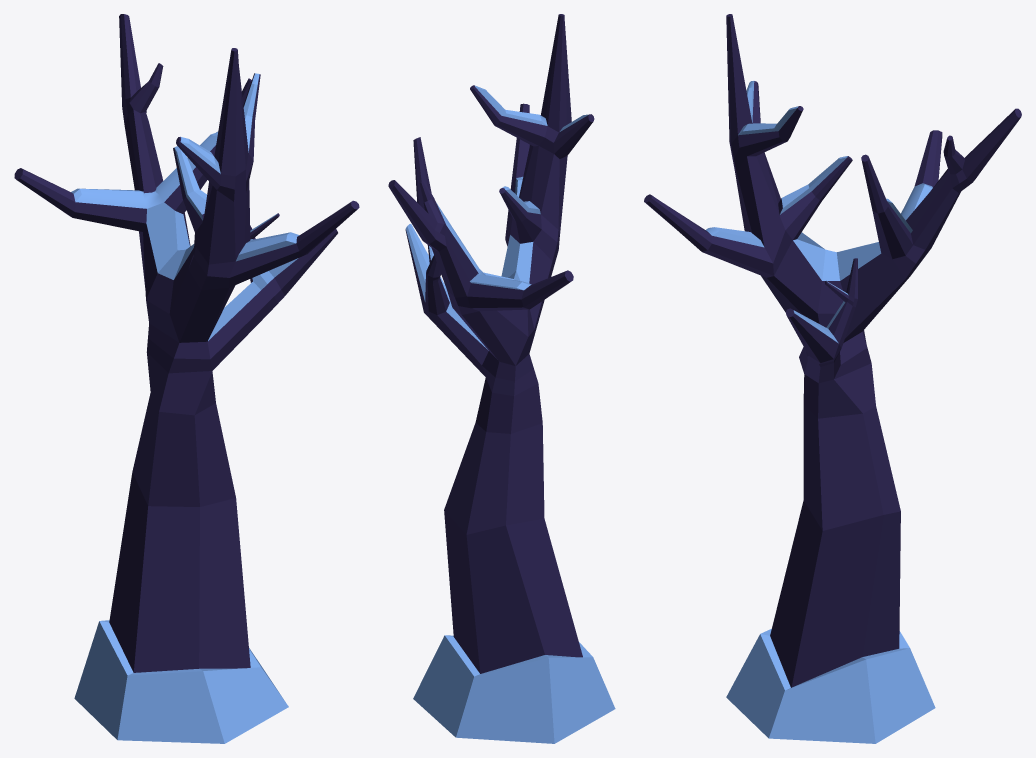
The model's file is Leafless_Tree_2.fbx.
3 renders of one model, left to right at view 1: azimuth 30°, elevation 25°; view 2: azimuth 150°, elevation 25°; view 3: azimuth 270°, elevation 25°, orthographic. The views are drawn at different scales.
Parts seen in each view (by area): view 1: Leafless_Tree_2; view 2: Leafless_Tree_2; view 3: Leafless_Tree_2.
Part boxes in pixels (bbox=[...]): Leafless_Tree_2: bbox=[14, 14, 359, 743]; Leafless_Tree_2: bbox=[388, 14, 615, 743]; Leafless_Tree_2: bbox=[644, 14, 1021, 743].
Bounding box in the file's own units: 24.01 × 64.08 × 31.75.
